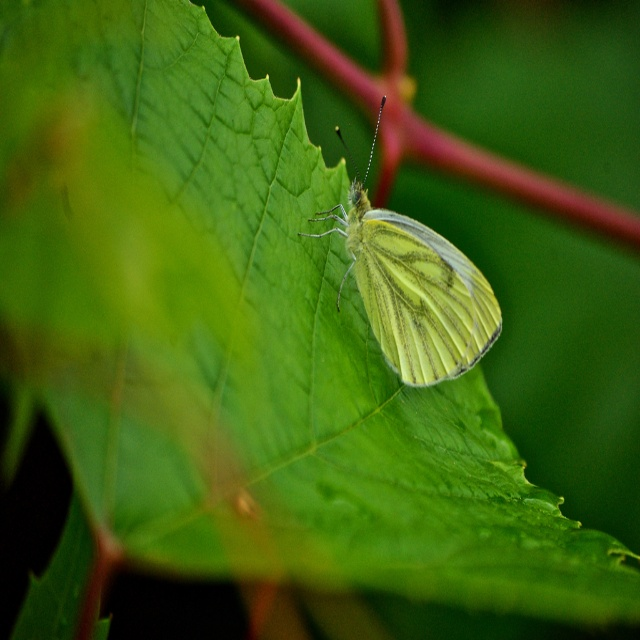Butterfly: (308, 95, 489, 420)
